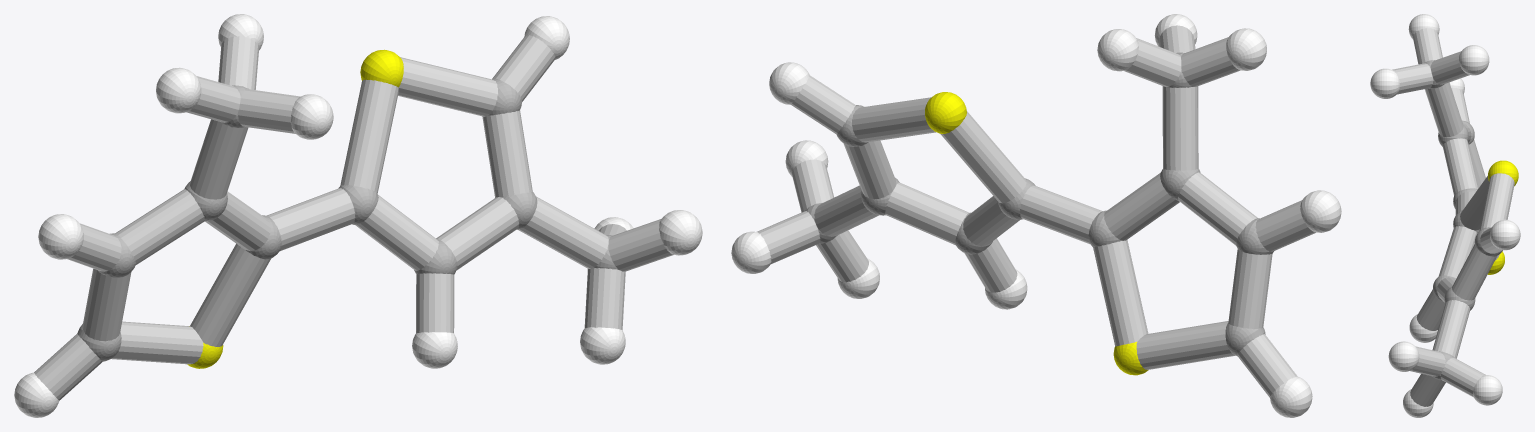
Rendered from Methylthiophene_Phi_5_Theta_320_Methylthiophene.glb.
3 renders of one model, left to right at view 1: azimuth 30°, elevation 25°; view 2: azimuth 150°, elevation 25°; view 3: azimuth 270°, elevation 25°, orthographic. The views are drawn at different scales.
Parts seen in each view (by area): view 1: grp7965, grp3621, grp1, grp7241; view 2: grp7965, grp3621, grp1, grp7241; view 3: grp7965, grp3621, grp1, grp7241.
Boxes of the visible parts, bbox=[...] form: grp7965: bbox=[34, 35, 673, 400]; grp3621: bbox=[14, 14, 702, 417]; grp1: bbox=[77, 78, 617, 361]; grp7241: bbox=[187, 49, 403, 368]; grp7965: bbox=[757, 25, 1315, 397]; grp3621: bbox=[731, 14, 1341, 417]; grp1: bbox=[805, 52, 1273, 356]; grp7241: bbox=[925, 92, 1148, 375]; grp7965: bbox=[1392, 28, 1514, 406]; grp3621: bbox=[1370, 14, 1520, 417]; grp1: bbox=[1424, 60, 1502, 380]; grp7241: bbox=[1487, 160, 1518, 274].
Bounding box in the file's own units: 9.43 × 5.69 × 2.93.
